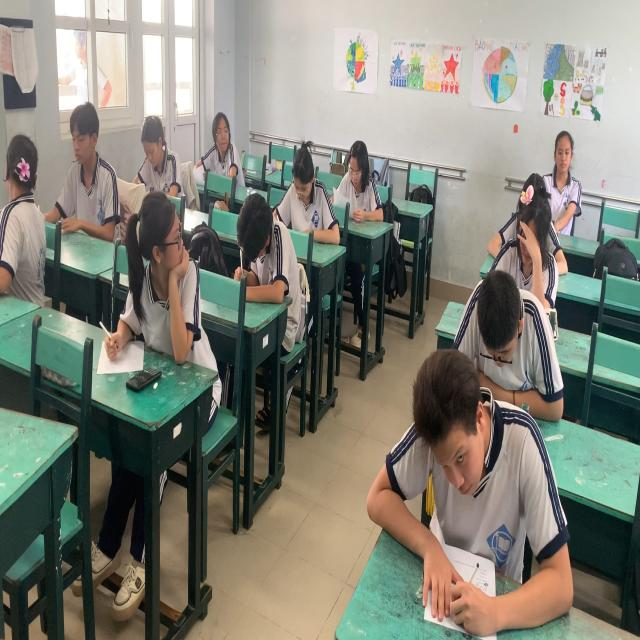cheating: (121, 198, 206, 406), (0, 129, 59, 333)
not_cheating: (370, 354, 556, 623), (446, 274, 560, 409), (61, 99, 122, 243), (230, 185, 294, 316), (270, 136, 340, 254), (126, 106, 194, 202), (335, 136, 391, 229), (506, 185, 547, 288), (207, 101, 249, 180), (545, 130, 578, 192)
